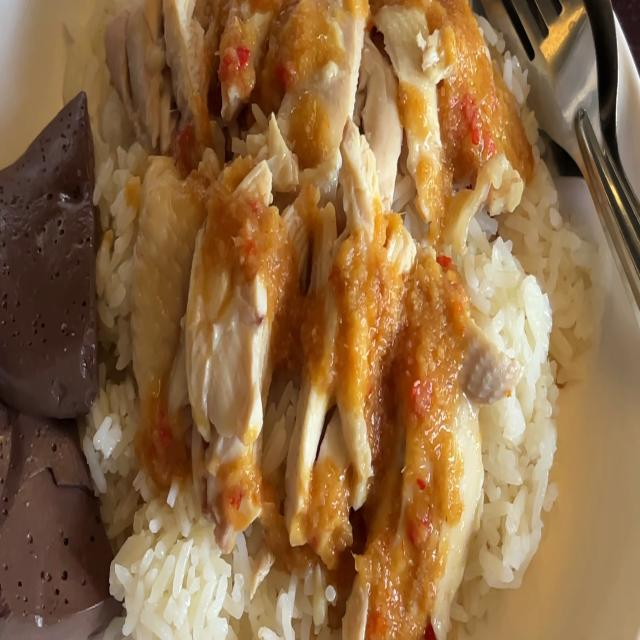boiled_chicken: (118, 3, 491, 533)
boiled_chicken_blood_jelly: (0, 90, 97, 423), (0, 356, 110, 620)
chicken_rice: (0, 0, 598, 640)
